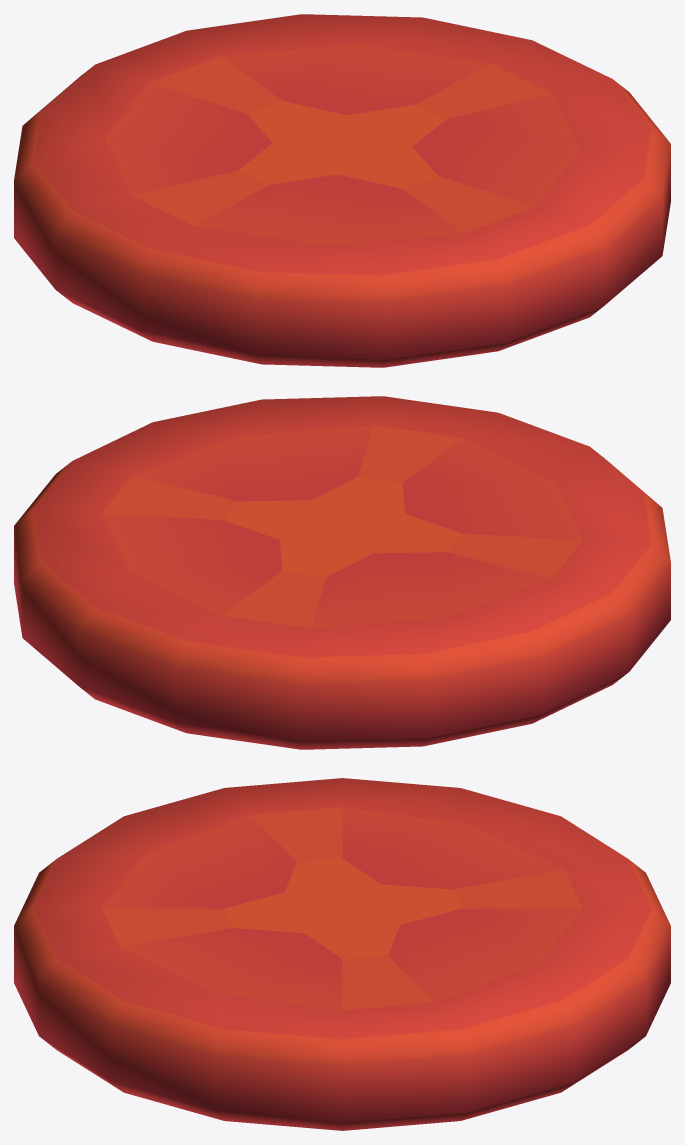
Rendered from food_ingredient_tomato_slice.obj.
3 views of the same model, one above another, from view 1: azimuth 30°, elevation 25°; view 2: azimuth 150°, elevation 25°; view 3: azimuth 270°, elevation 25° (orthographic).
Visible parts, largest first — view 1: food_ingredient_tomato_slice_Sphere.116; view 2: food_ingredient_tomato_slice_Sphere.116; view 3: food_ingredient_tomato_slice_Sphere.116.
Part boxes in pixels (x1,y1,x2,y2): food_ingredient_tomato_slice_Sphere.116: (14,14,670,367); food_ingredient_tomato_slice_Sphere.116: (14,396,670,749); food_ingredient_tomato_slice_Sphere.116: (14,778,670,1130).
Bounding box in the file's own units: 0.65 × 0.1 × 0.65.
Materials: 1 (1 with a texture image).
